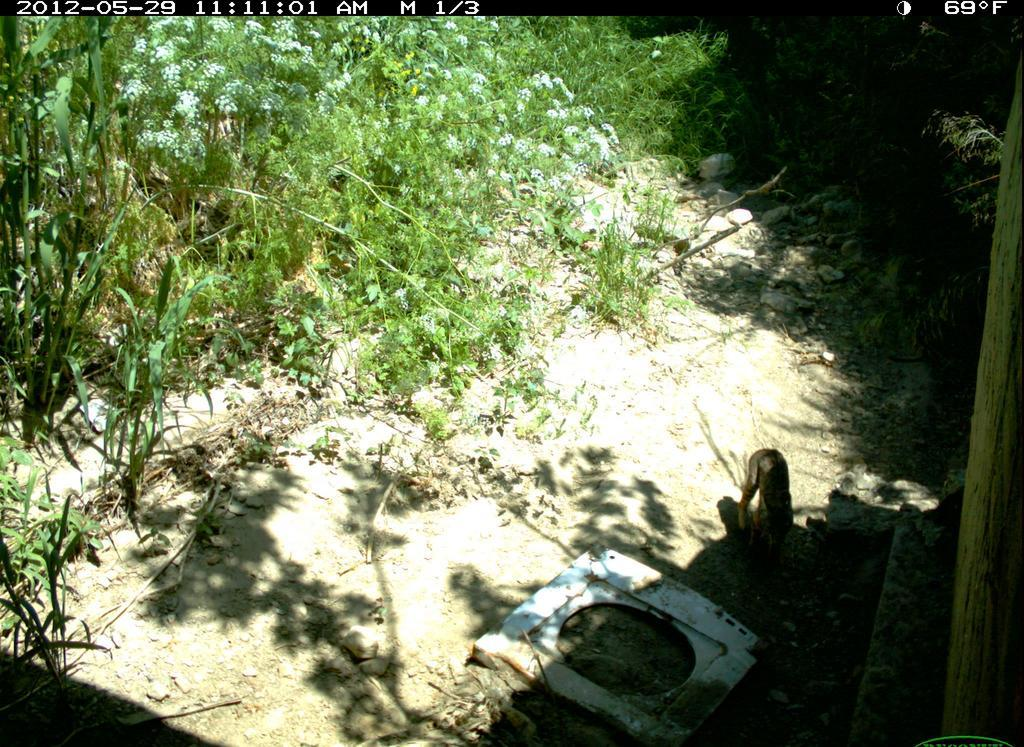bobcat: (726, 443, 806, 560)
